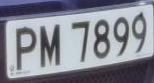7: (71, 14, 93, 68)
8: (91, 13, 114, 64)
9: (130, 9, 150, 58), (112, 12, 132, 59)
M: (36, 19, 65, 73)
P: (11, 23, 41, 72)
